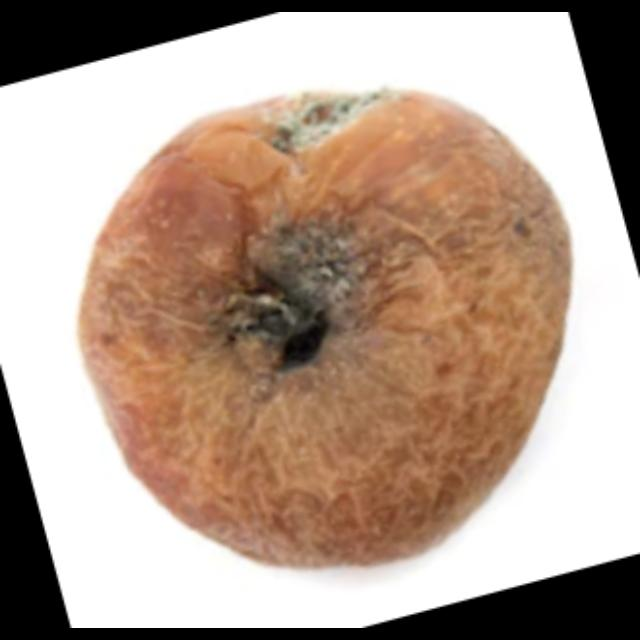Apel Tidak Segar: (36, 70, 624, 600)
